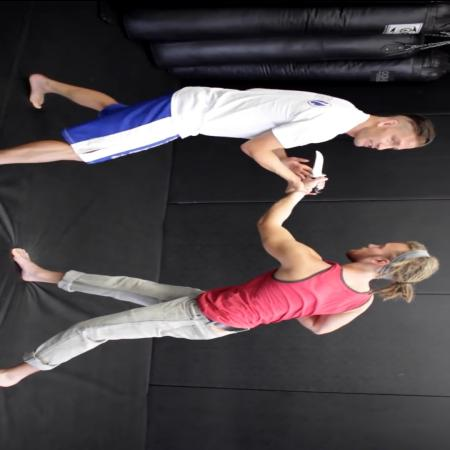long weapon: (304, 147, 338, 197)
